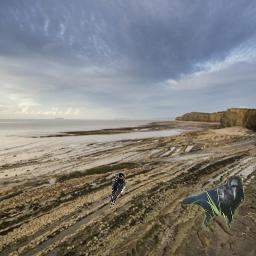Crow: (175, 176, 244, 231)
Swallow: (109, 172, 126, 209)
